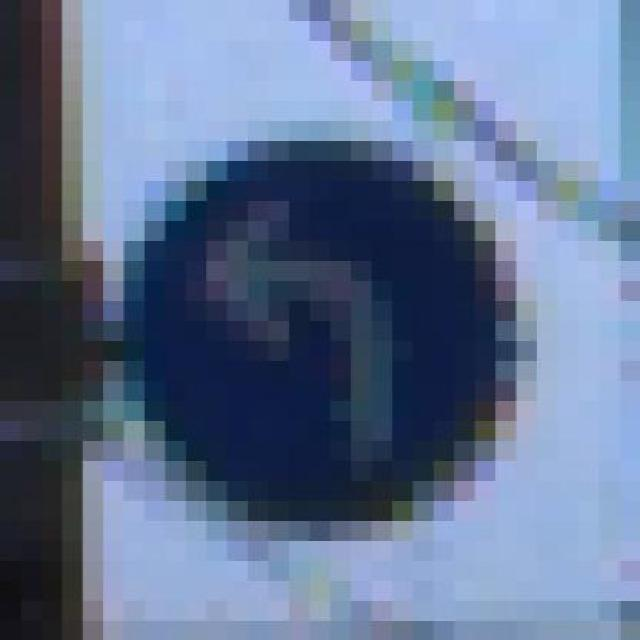Turn left ahead: (144, 120, 516, 560)
